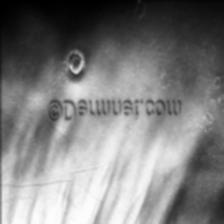Toxin: (62, 48, 86, 78)
